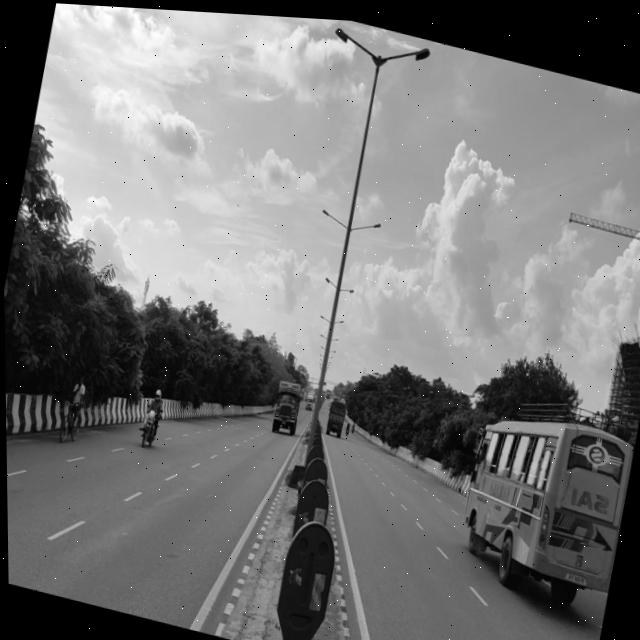bike: (134, 404, 161, 449)
bus: (450, 388, 638, 605)
truck: (258, 370, 312, 442)
